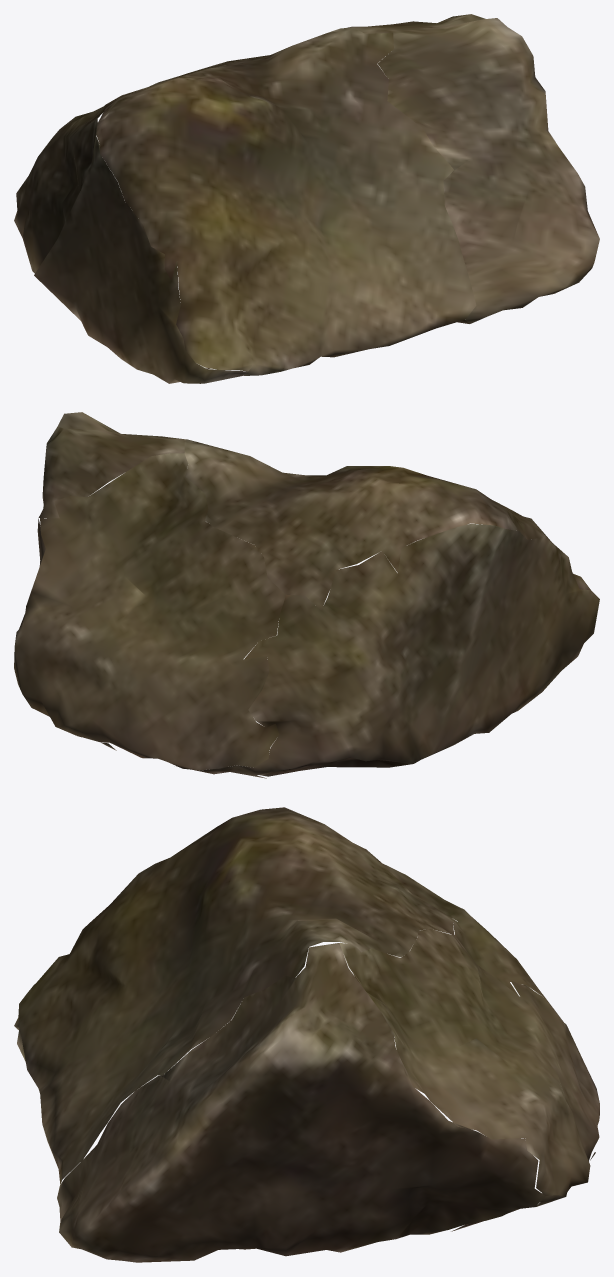
The model's file is forest-rock.glb.
The picture shows the model from 3 angles, top to bottom: view 1: azimuth 30°, elevation 25°; view 2: azimuth 150°, elevation 25°; view 3: azimuth 270°, elevation 25°; orthographic projection. The views are drawn at different scales.
Visible parts, largest first — view 1: rock_moss_set_01_rock03; view 2: rock_moss_set_01_rock03; view 3: rock_moss_set_01_rock03.
Part boxes in pixels (x1=…): rock_moss_set_01_rock03: x1=14, y1=14, x2=599, y2=383; rock_moss_set_01_rock03: x1=14, y1=412, x2=599, y2=778; rock_moss_set_01_rock03: x1=14, y1=807, x2=599, y2=1262.
Bounding box in the file's own units: 2.11 × 1.1 × 2.08.
Materials: 1 (1 with a texture image).
